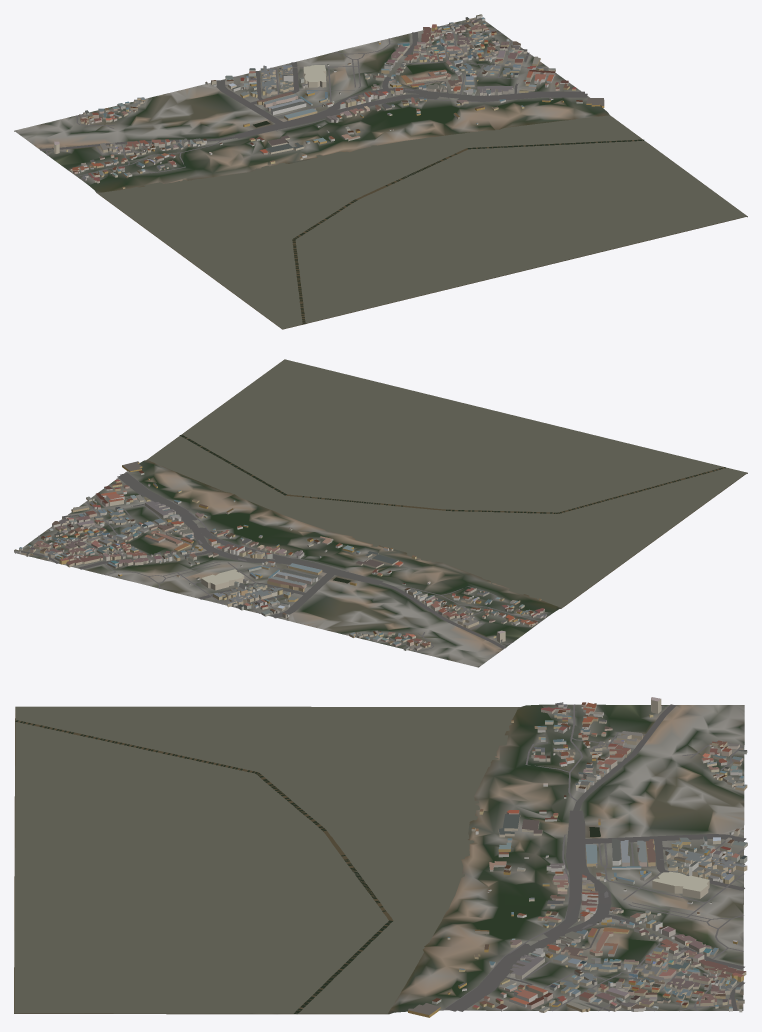
The picture shows the model from 3 angles, top to bottom: view 1: azimuth 30°, elevation 25°; view 2: azimuth 150°, elevation 25°; view 3: azimuth 270°, elevation 25°; orthographic projection. The views are drawn at different scales.
Parts seen in each view (by area): view 1: water, ground, buildings, roads; view 2: water, ground, buildings, roads; view 3: water, ground, buildings, roads.
Part boxes in pixels (x1,y1,x2,y2): water: [98, 115, 746, 328]; ground: [14, 17, 747, 329]; buildings: [51, 14, 604, 188]; roads: [40, 18, 589, 176]; water: [147, 359, 746, 607]; ground: [15, 359, 747, 667]; buildings: [14, 461, 546, 650]; roads: [20, 472, 541, 652]; water: [14, 706, 600, 1014]; ground: [14, 704, 744, 1014]; buildings: [408, 697, 747, 1017]; roads: [442, 704, 746, 1011].
Bounding box in the file's own units: 1427 × 34.31 × 1411.
